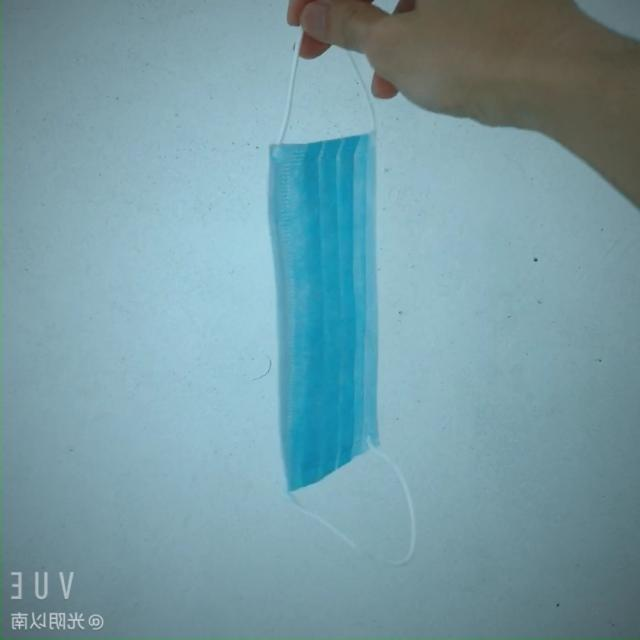face mask: (258, 124, 412, 493)
